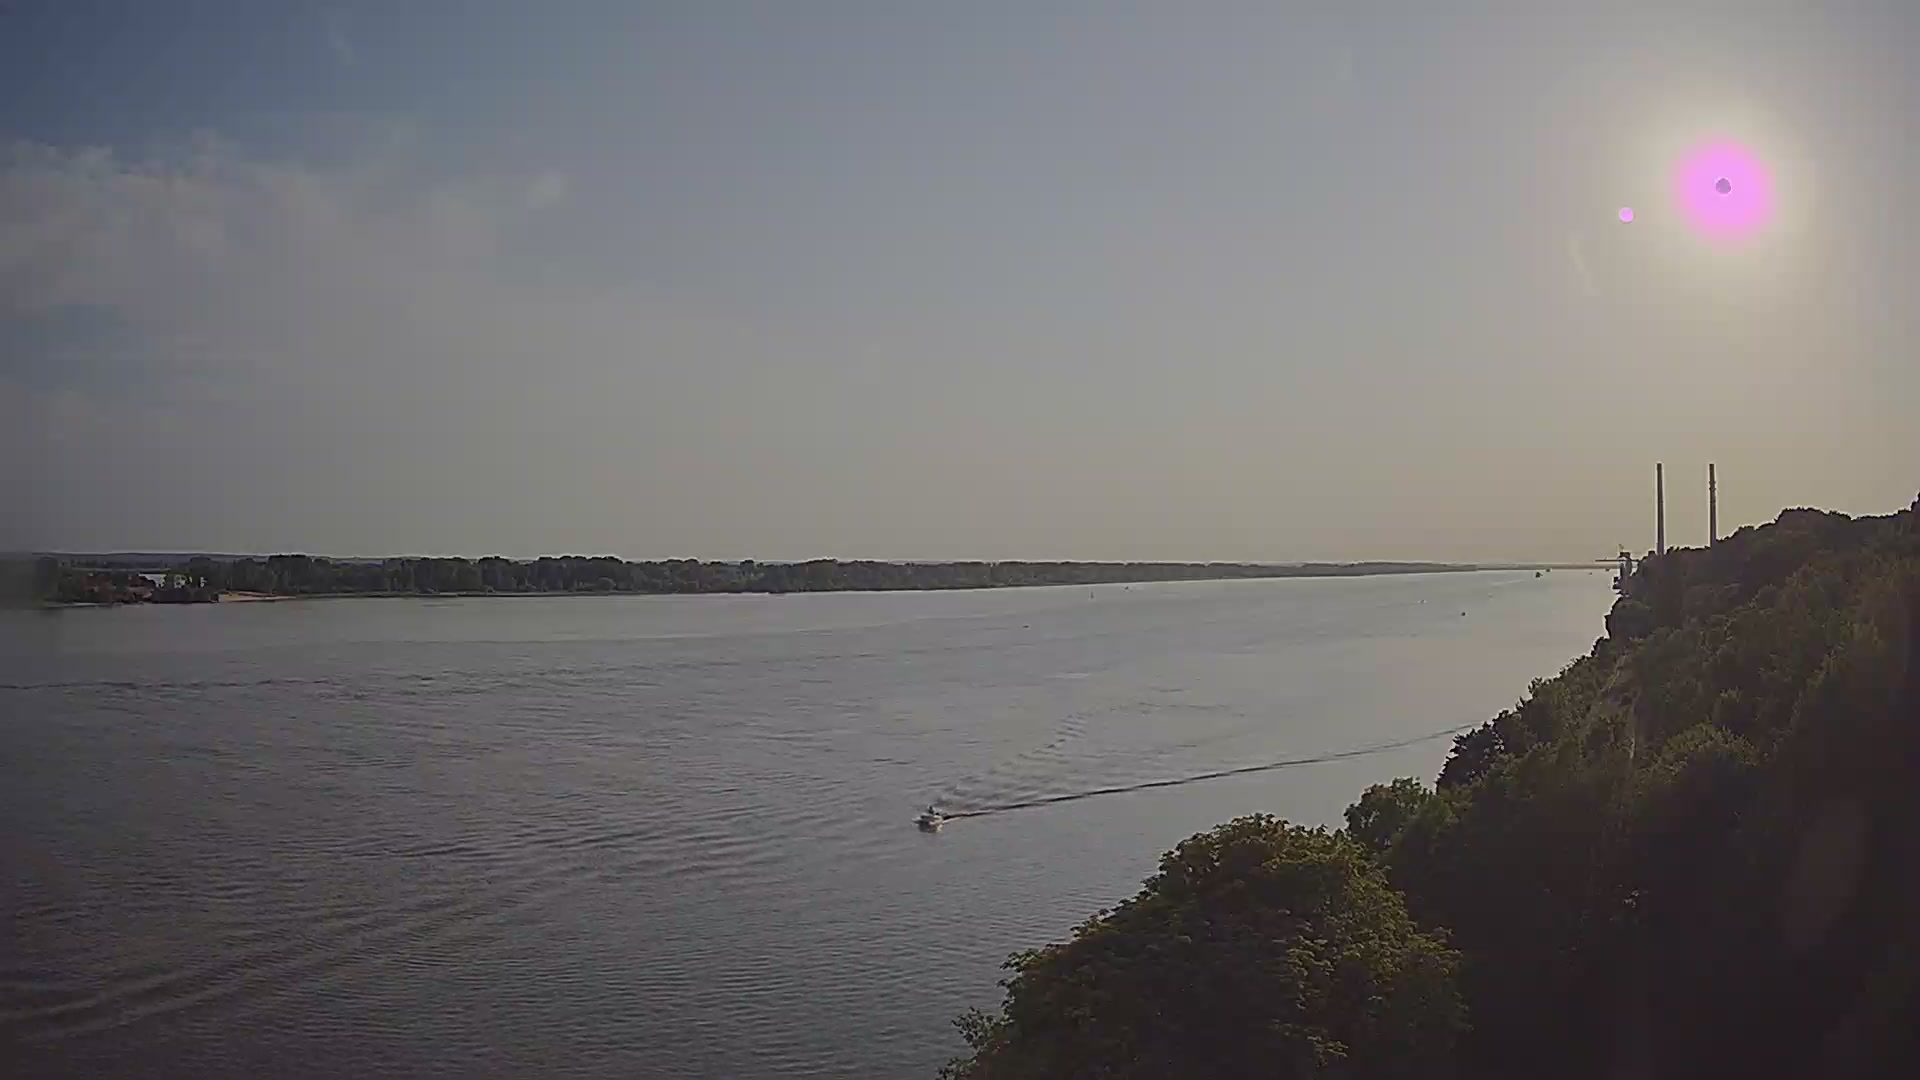human: (927, 805, 935, 816)
sea: (912, 805, 944, 827), (1534, 570, 1543, 578), (1545, 568, 1552, 573)
